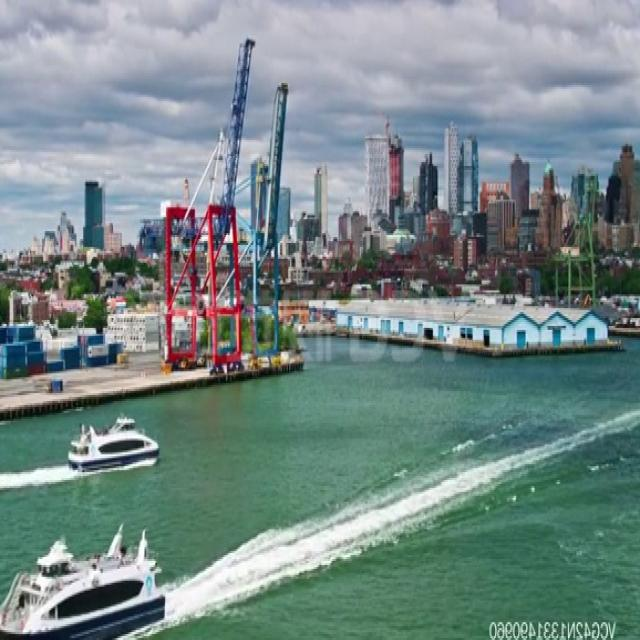houseboat: (0, 521, 163, 640), (64, 413, 164, 476)
